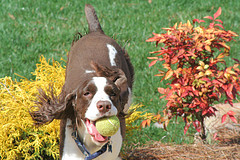tennis ball: (95, 115, 120, 137)
